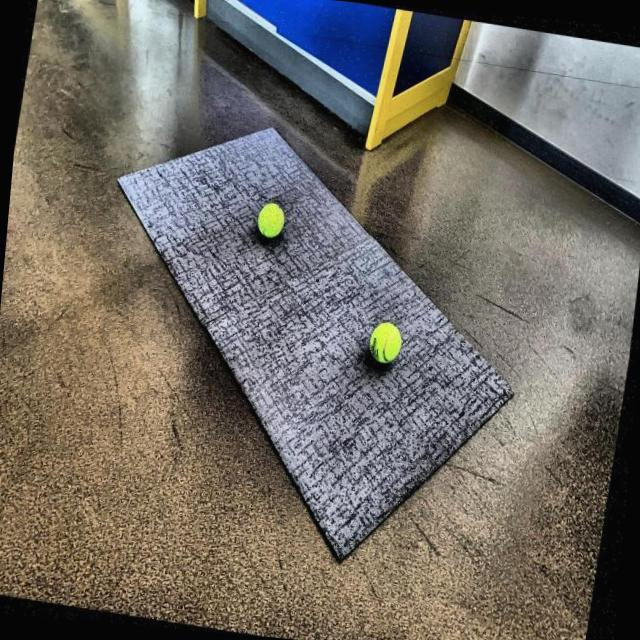tennis-ball: (366, 318, 406, 372), (254, 196, 290, 248)
